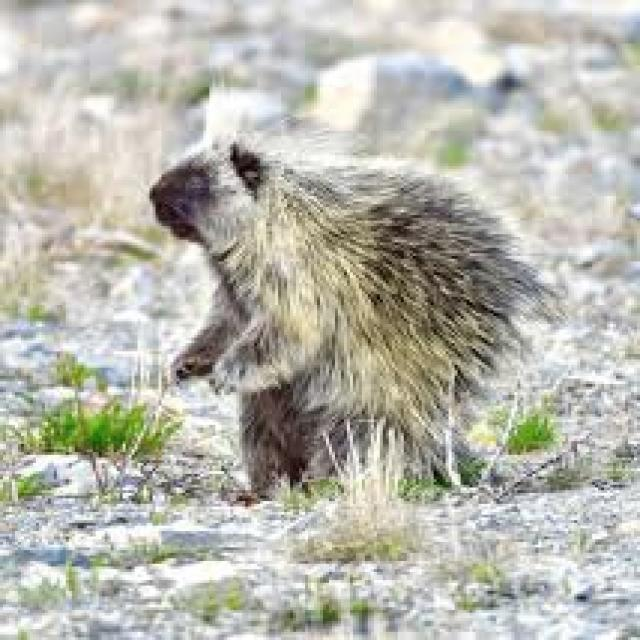porcupine: (153, 101, 559, 496)
